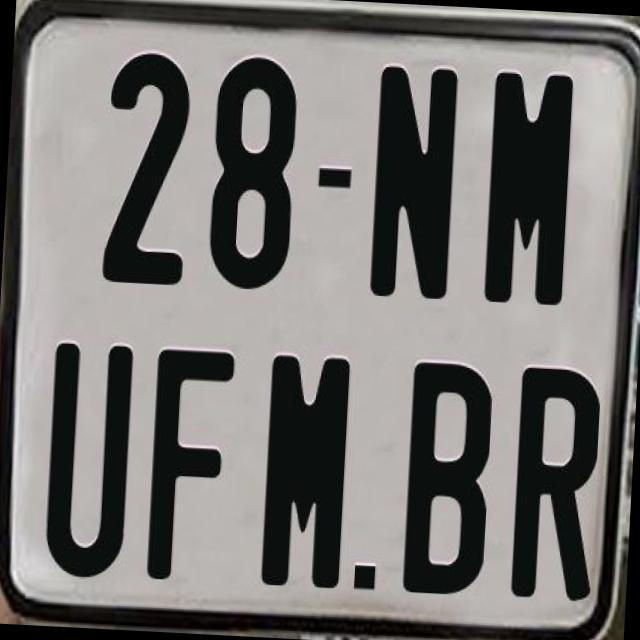2: (98, 51, 192, 293)
8: (207, 50, 300, 292)
B: (397, 362, 495, 602)
F: (142, 347, 234, 584)
M: (258, 351, 356, 594), (480, 70, 578, 306)
N: (368, 62, 460, 296)
R: (509, 368, 602, 604)
U: (40, 342, 138, 588)
